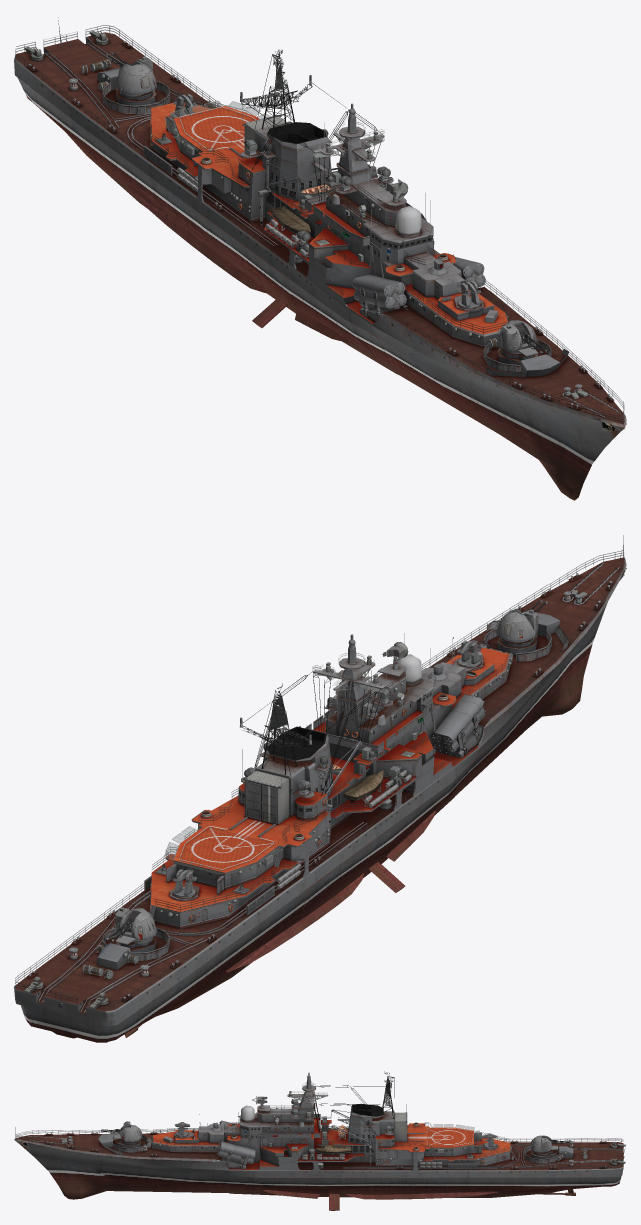
Rendered from ship.glb.
3 views of the same model, one above another, from view 1: azimuth 30°, elevation 25°; view 2: azimuth 150°, elevation 25°; view 3: azimuth 270°, elevation 25° (orthographic). The views are drawn at different scales.
Parts seen in each view (by area): view 1: sovremenny_0, sovremenny.001_1, sovremenny.002_2; view 2: sovremenny_0, sovremenny.001_1, sovremenny.002_2; view 3: sovremenny_0, sovremenny.002_2, sovremenny.001_1.
Part boxes in pixels (box(x1,y1,x2,y2)): sovremenny_0: box(14, 17, 626, 500); sovremenny.001_1: box(116, 56, 156, 94); sovremenny.002_2: box(496, 320, 538, 356); sovremenny_0: box(14, 535, 626, 1042); sovremenny.001_1: box(115, 907, 157, 944); sovremenny.002_2: box(496, 609, 538, 641); sovremenny_0: box(14, 1071, 625, 1210); sovremenny.002_2: box(114, 1121, 142, 1141); sovremenny.001_1: box(530, 1135, 557, 1152).
Bounding box in the file's own units: 17.69 × 27.77 × 120.
6 materials, 6 textured.
